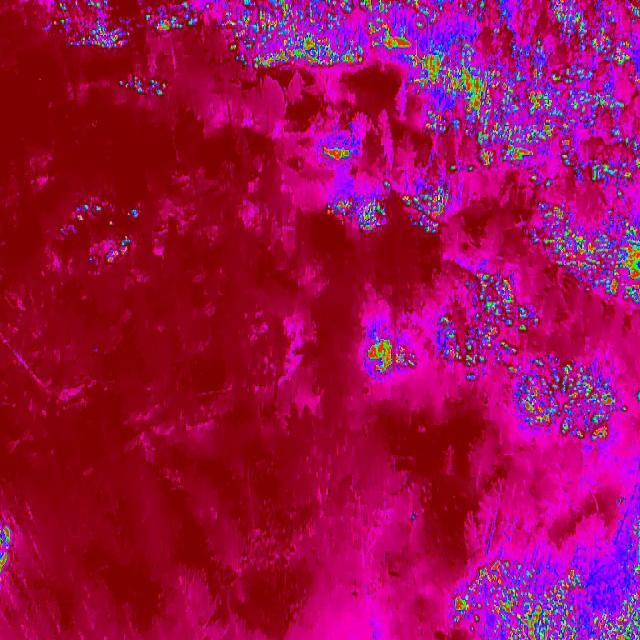fire: (445, 537, 640, 640), (145, 0, 640, 40), (229, 40, 640, 78), (404, 78, 640, 142), (526, 193, 640, 305), (437, 267, 537, 379), (506, 358, 621, 448), (465, 142, 640, 178), (60, 195, 140, 269), (322, 170, 394, 240), (47, 0, 135, 48), (361, 328, 422, 376), (404, 184, 456, 238), (315, 131, 365, 167), (119, 75, 168, 104), (0, 524, 12, 581)
